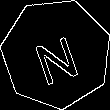N_N: (30, 23, 83, 84)
